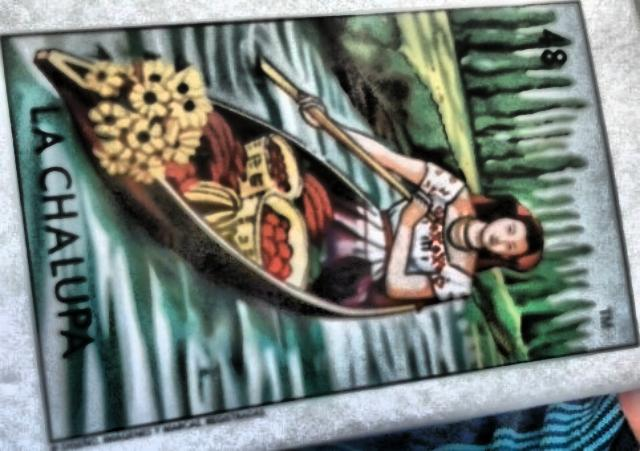La Chalupa: (1, 1, 639, 442)
